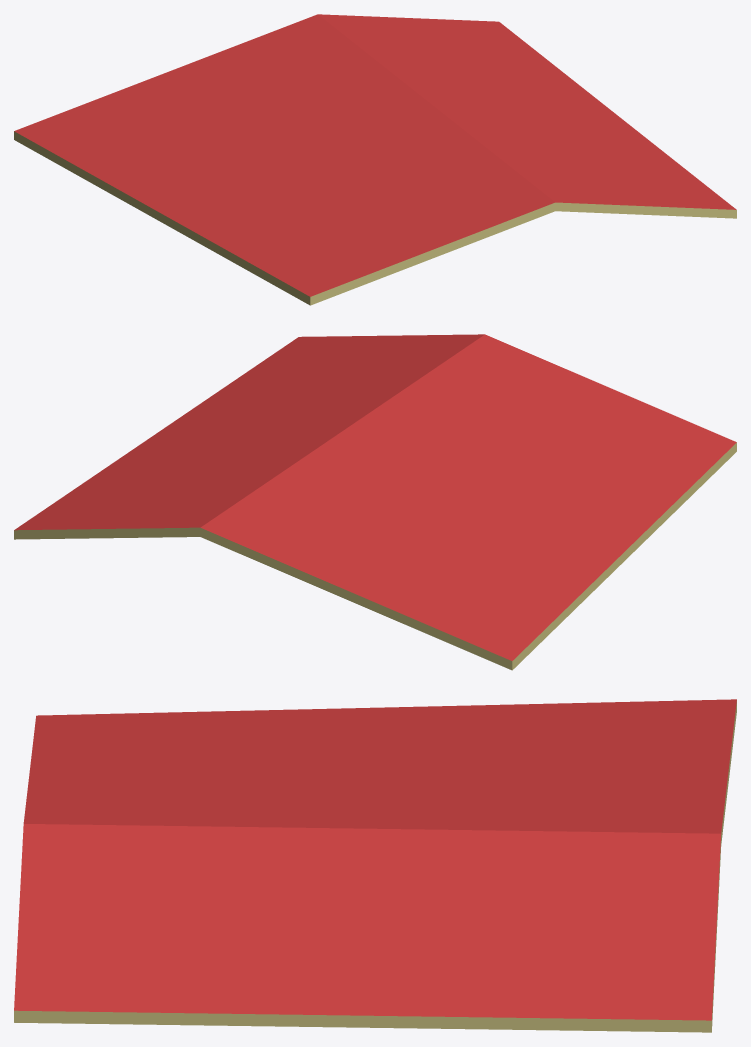
The picture shows the model from 3 angles, top to bottom: view 1: azimuth 30°, elevation 25°; view 2: azimuth 150°, elevation 25°; view 3: azimuth 270°, elevation 25°; orthographic projection. The views are drawn at different scales.
Size of the model in its own units: 5.71 by 5.44 by 0.654.
